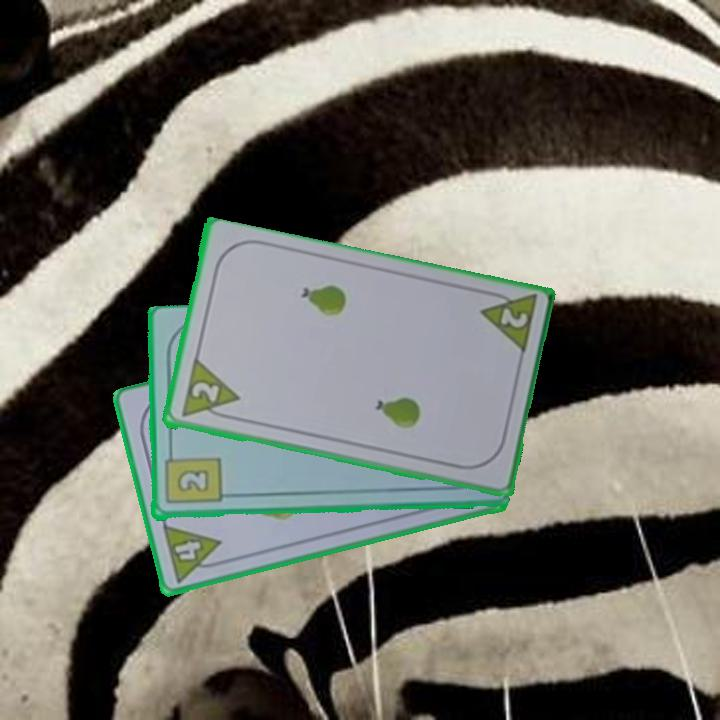2b: (161, 446, 223, 507)
2p: (476, 286, 540, 358), (187, 378, 222, 405)
4p: (159, 521, 229, 585)
